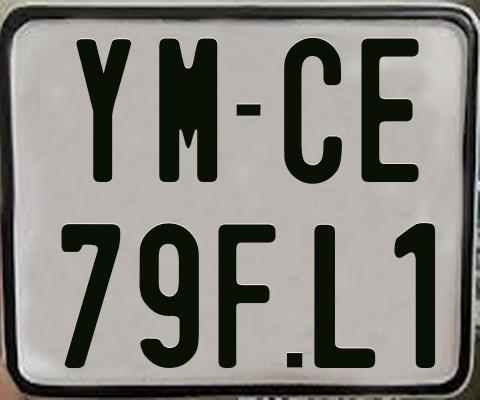1: (392, 223, 439, 370)
7: (59, 224, 122, 369)
9: (136, 221, 198, 369)
C: (283, 38, 342, 188)
E: (359, 38, 420, 184)
F: (215, 224, 278, 373)
L: (313, 225, 377, 370)
M: (159, 38, 223, 183)
Y: (73, 37, 131, 184)
